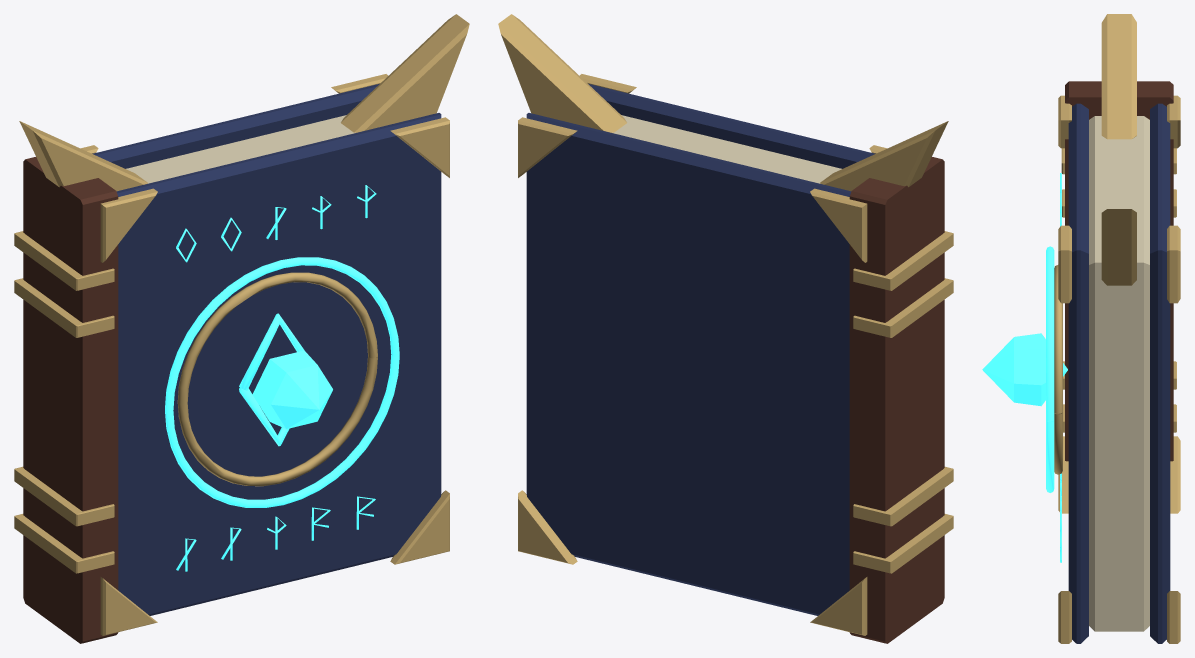
The model's file is spell-tome-legendary-high.glb.
The picture shows the model from 3 angles, left to right: view 1: azimuth 30°, elevation 25°; view 2: azimuth 150°, elevation 25°; view 3: azimuth 270°, elevation 25°; orthographic projection. The views are drawn at different scales.
Parts seen in each view (by area): view 1: spell-tome__legendary; view 2: spell-tome__legendary; view 3: spell-tome__legendary.
Boxes of the visible parts, left/top/right/bottom form: spell-tome__legendary: left=14, top=14, right=469, bottom=643; spell-tome__legendary: left=498, top=14, right=953, bottom=643; spell-tome__legendary: left=982, top=14, right=1180, bottom=643.
Bounding box in the file's own units: 0.34 × 0.375 × 0.1459.
